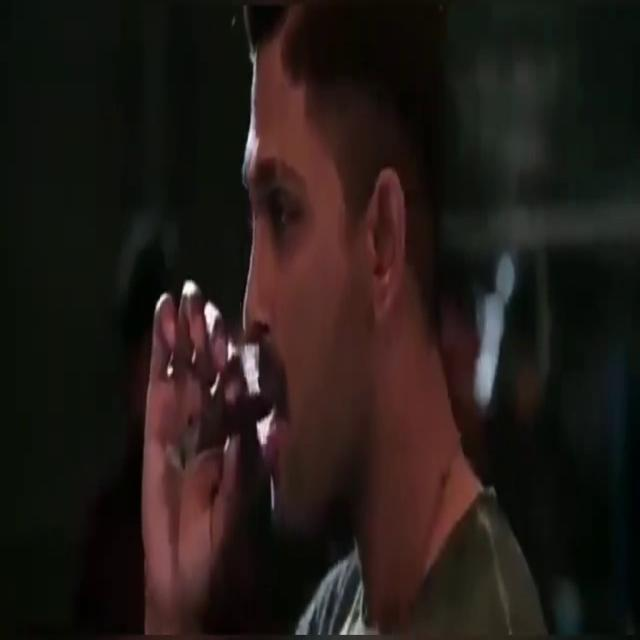smoking: (146, 324, 294, 507)
